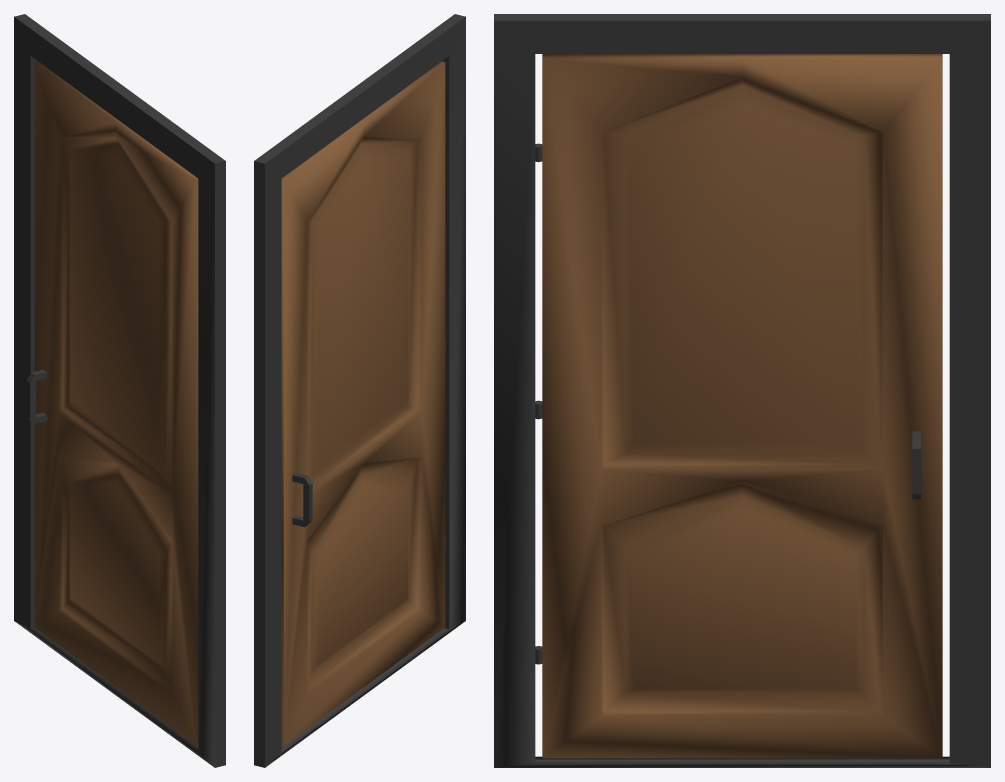
Rendered from Door.fbx.
3 renders of one model, left to right at view 1: azimuth 30°, elevation 25°; view 2: azimuth 150°, elevation 25°; view 3: azimuth 270°, elevation 25°, orthographic. The views are drawn at different scales.
Visible parts, largest first — view 1: DoorMesh, DoorFrame; view 2: DoorMesh, DoorFrame; view 3: DoorMesh, DoorFrame.
Part boxes in pixels (x1,y1,x2,y2): DoorMesh: [26, 61, 198, 745]; DoorFrame: [14, 14, 225, 767]; DoorMesh: [281, 61, 445, 745]; DoorFrame: [254, 14, 465, 767]; DoorMesh: [542, 54, 942, 758]; DoorFrame: [494, 14, 990, 767].
Size of the model in its own units: 75.75 by 1021 by 615.
